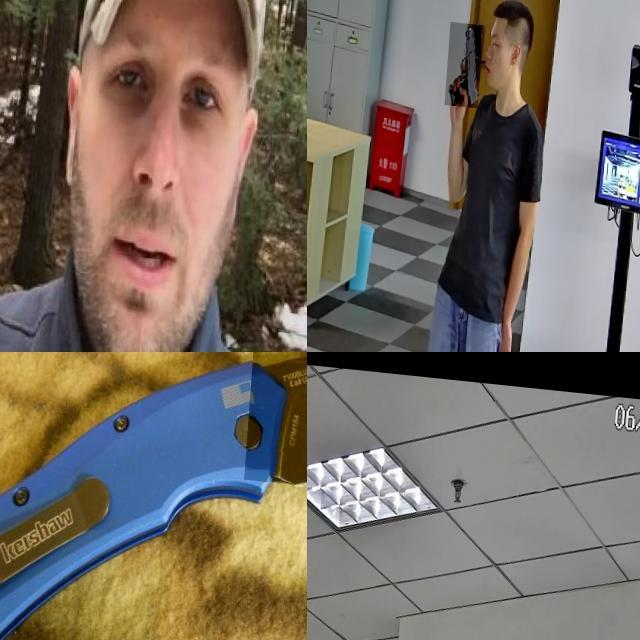-: (0, 0, 86, 306)
gun-knife-thesis - v11 Yolov5 augmented: (448, 14, 486, 100)
